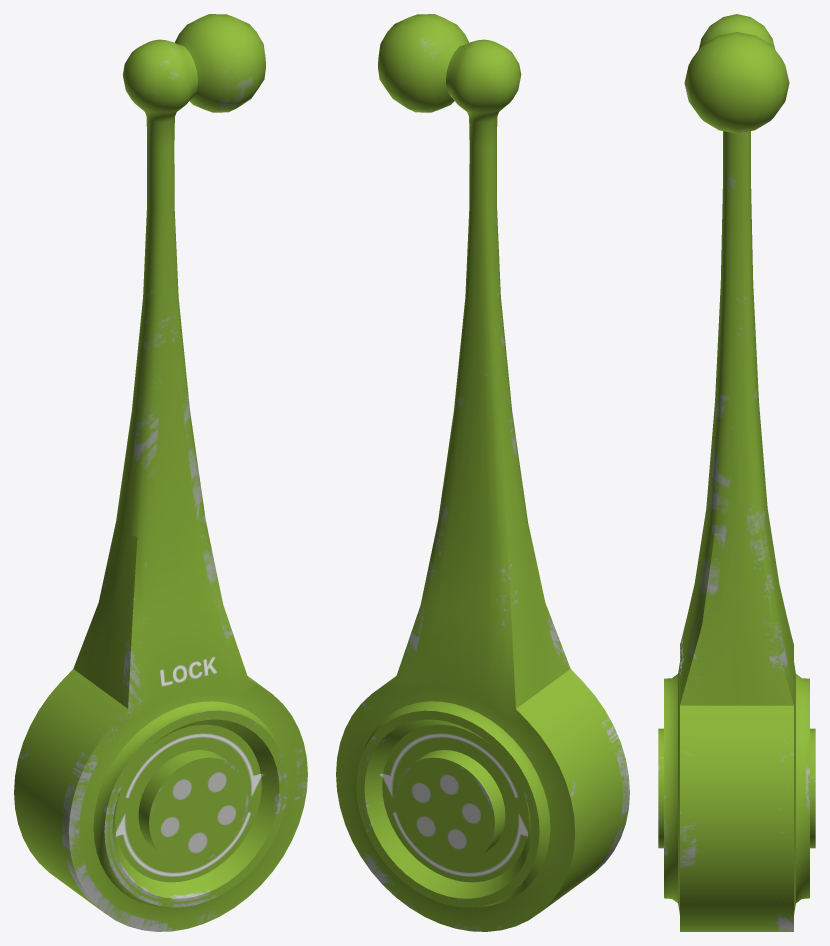
File: heavy.glb
3 renders of one model, left to right at view 1: azimuth 30°, elevation 25°; view 2: azimuth 150°, elevation 25°; view 3: azimuth 270°, elevation 25°, orthographic. The views are drawn at different scales.
Visible parts, largest first — view 1: heavy_low; view 2: heavy_low; view 3: heavy_low.
Part boxes in pixels (bbox=[...]): heavy_low: bbox=[14, 14, 307, 931]; heavy_low: bbox=[336, 14, 629, 931]; heavy_low: bbox=[658, 14, 815, 931].
Bounding box in the file's own units: 1.27 × 4.43 × 0.694.
Materials: 1 (1 with a texture image).
